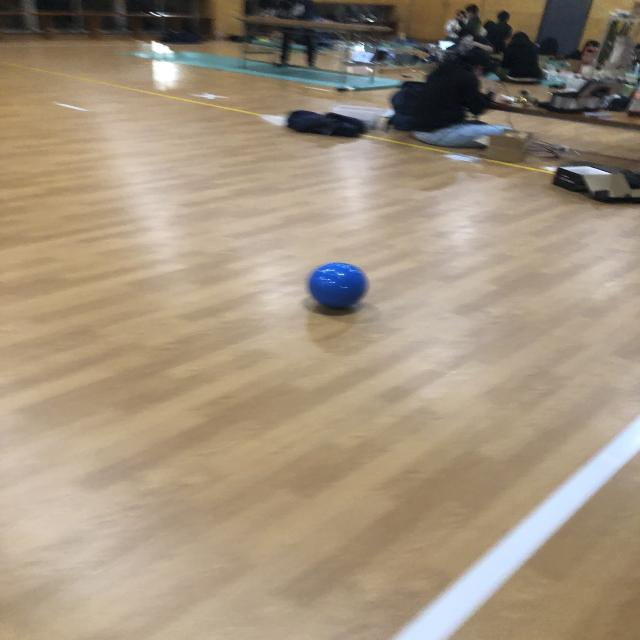blue_ball: (310, 259, 368, 314)
